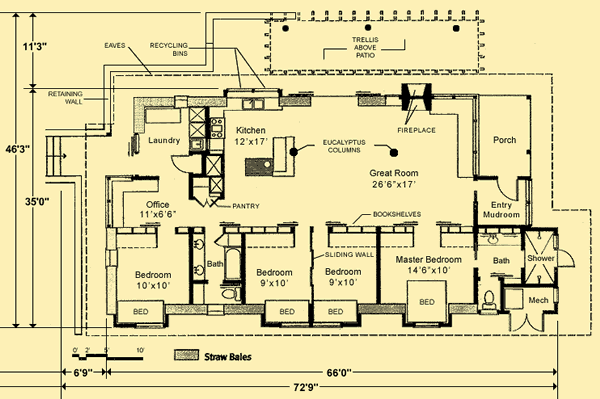door: (507, 311, 546, 336), (493, 176, 523, 201), (171, 152, 195, 178), (556, 246, 577, 272)
kitchen bar: (271, 131, 300, 183)
large sink: (477, 287, 499, 311), (219, 288, 245, 303)
small sink: (190, 232, 205, 280), (480, 234, 523, 246)
stairs: (41, 133, 85, 179)
tub: (220, 247, 243, 282), (239, 97, 268, 111)
windows: (277, 319, 345, 331), (525, 179, 535, 230), (411, 317, 443, 331), (134, 318, 165, 330)
